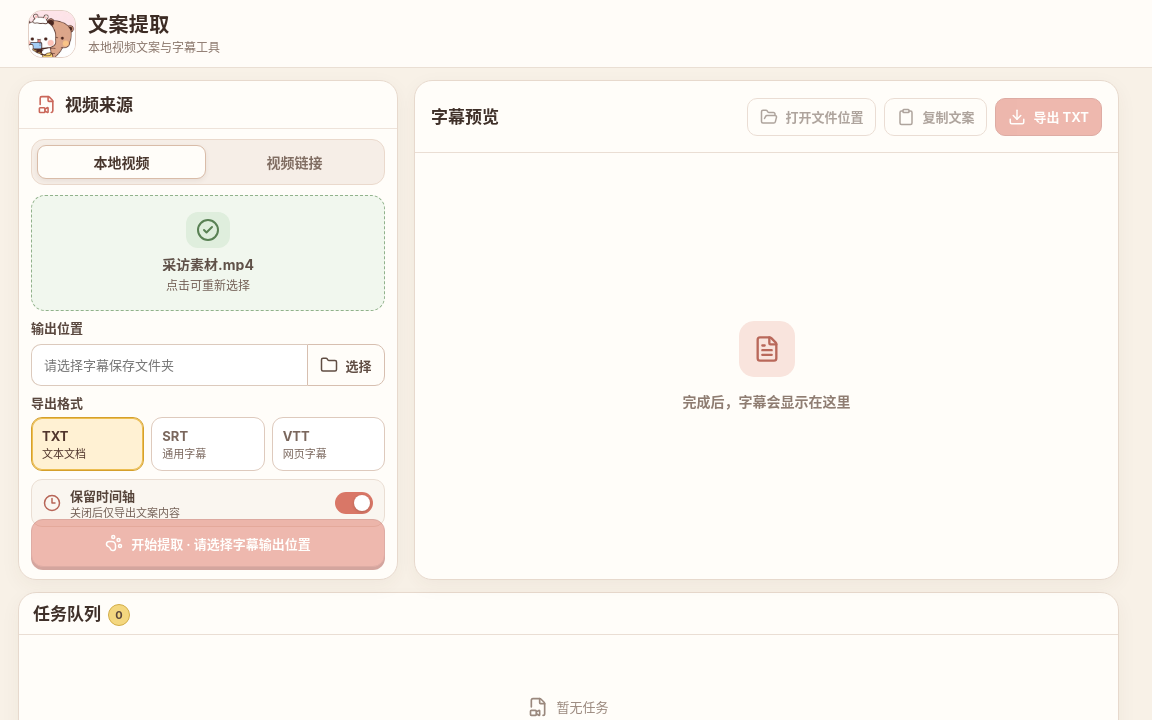
Test: App › selects a file dropped through the Tauri drag event
Expected: the text "暂无任务" is shown, left=556, top=697, right=608, bottom=716
Expected: the text "采访素材.mp4" is shown, left=162, top=255, right=254, bottom=271
Click the button "选择" at [346, 365], box left=307, top=344, right=385, bottom=386
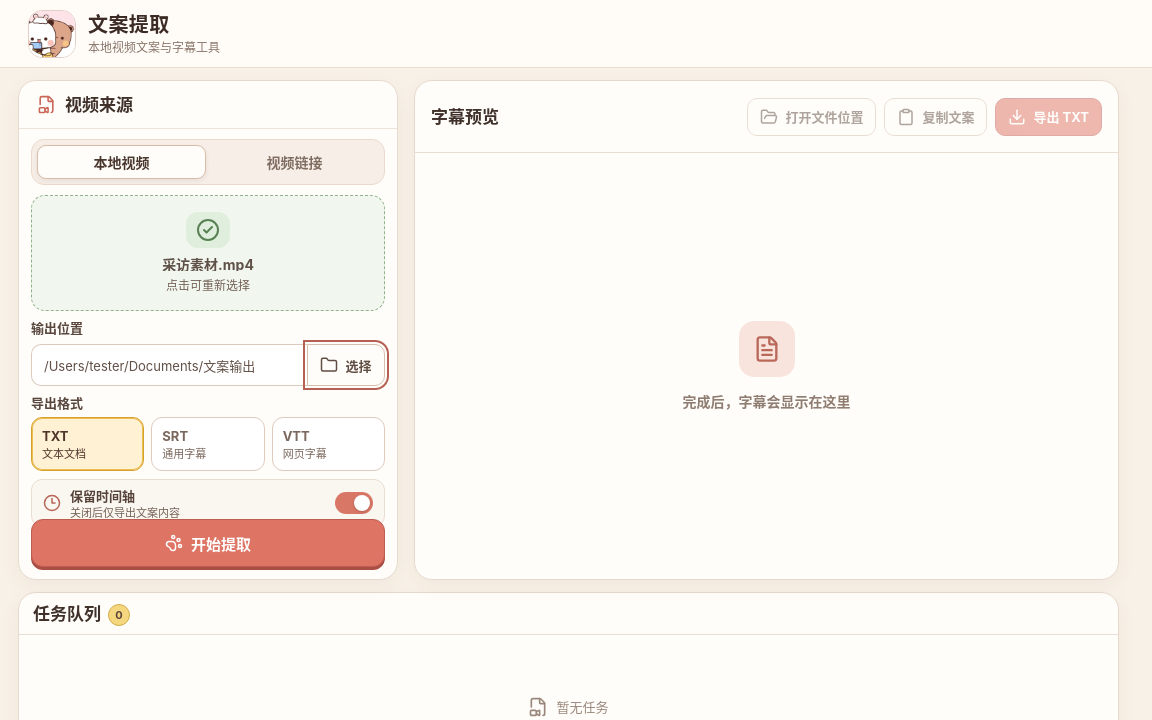
Expected: the button "开始提取" is enabled, left=31, top=519, right=385, bottom=567
